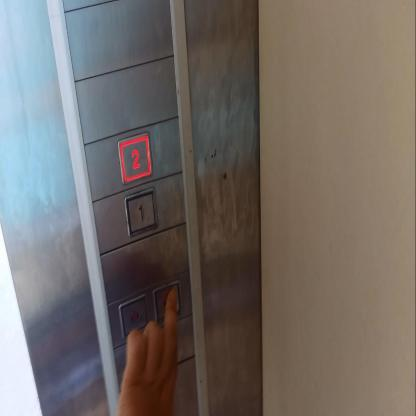1: (124, 186, 158, 237)
2: (117, 131, 153, 185)
open: (118, 293, 149, 339)
